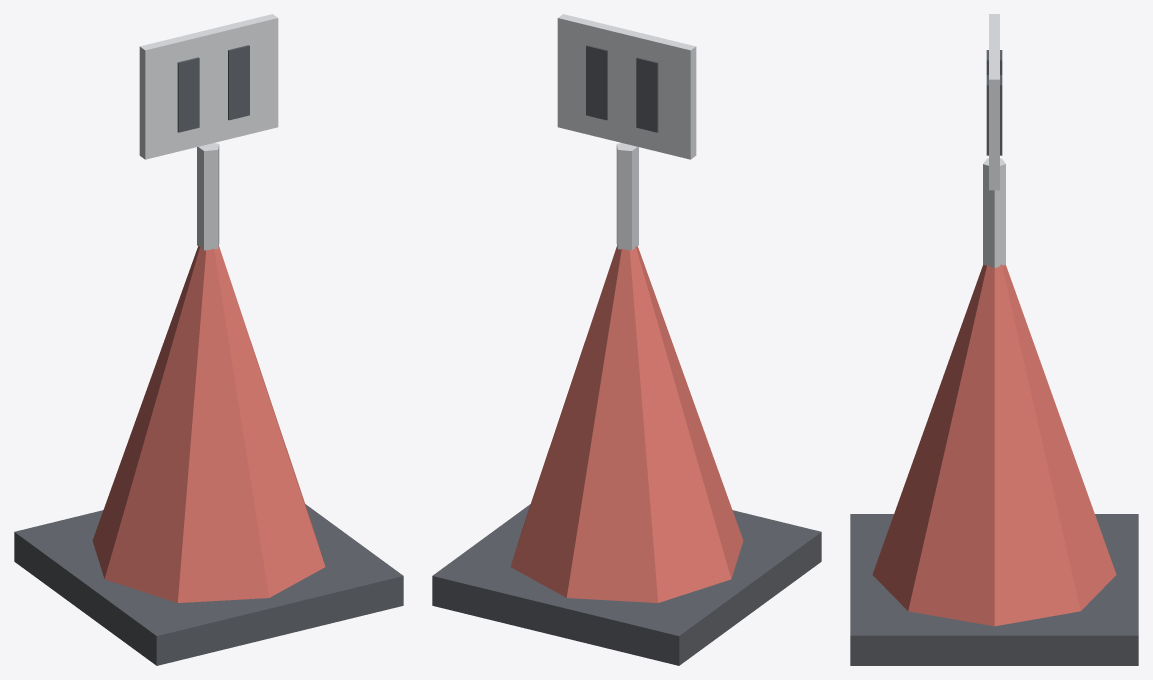
Rendered from dog-agility-and-training-field-course-number-cone-69d5bcb3__35598.glb.
The picture shows the model from 3 angles, left to right: view 1: azimuth 30°, elevation 25°; view 2: azimuth 150°, elevation 25°; view 3: azimuth 270°, elevation 25°; orthographic projection.
Parts seen in each view (by area): view 1: course-number-cone-poppy, course-number-cone-charcoal, course-number-cone-steel; view 2: course-number-cone-poppy, course-number-cone-charcoal, course-number-cone-steel; view 3: course-number-cone-poppy, course-number-cone-charcoal, course-number-cone-steel.
Boxes of the visible parts, left/top/right/bottom form: course-number-cone-poppy: left=92, top=245, right=325, bottom=602; course-number-cone-charcoal: left=14, top=45, right=403, bottom=665; course-number-cone-steel: left=139, top=14, right=278, bottom=250; course-number-cone-poppy: left=510, top=245, right=743, bottom=602; course-number-cone-charcoal: left=432, top=45, right=821, bottom=665; course-number-cone-steel: left=557, top=14, right=696, bottom=250; course-number-cone-poppy: left=872, top=264, right=1116, bottom=626; course-number-cone-charcoal: left=850, top=50, right=1138, bottom=665; course-number-cone-steel: left=983, top=14, right=1005, bottom=267.
Bounding box in the file's own units: 0.26 × 0.555 × 0.26.
